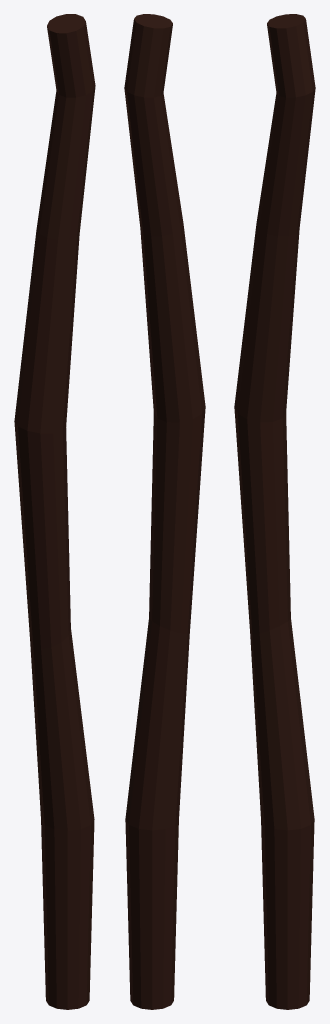
File: Handle.fbx
3 views of the same model, side by side, from view 1: azimuth 30°, elevation 25°; view 2: azimuth 210°, elevation 25°; view 3: azimuth 330°, elevation 25° (orthographic).
Visible parts, largest first — view 1: Sphere.010; view 2: Sphere.010; view 3: Sphere.010.
Part boxes in pixels (x1,y1,x2,y2): Sphere.010: [14, 14, 95, 1009]; Sphere.010: [124, 14, 205, 1009]; Sphere.010: [234, 14, 315, 1009].
Bounding box in the file's own units: 23.64 × 14.61 × 295.
